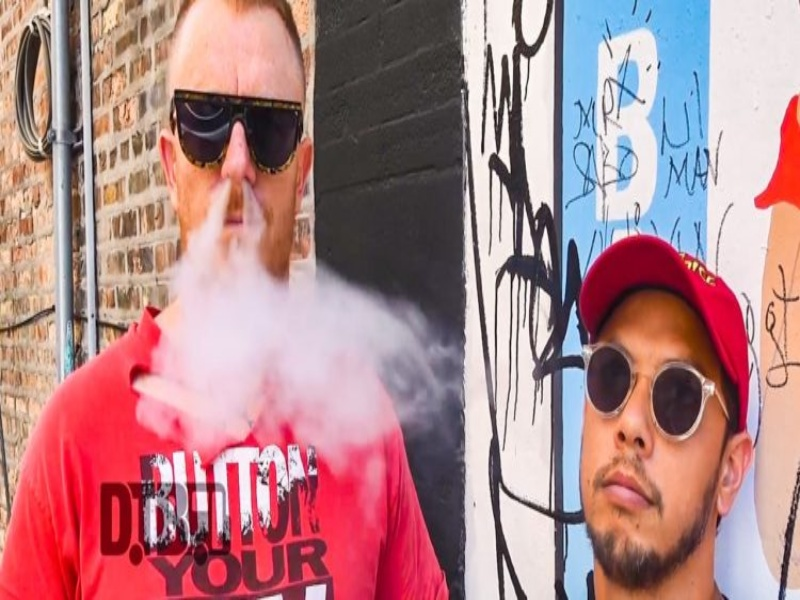smoke: (162, 258, 412, 444)
